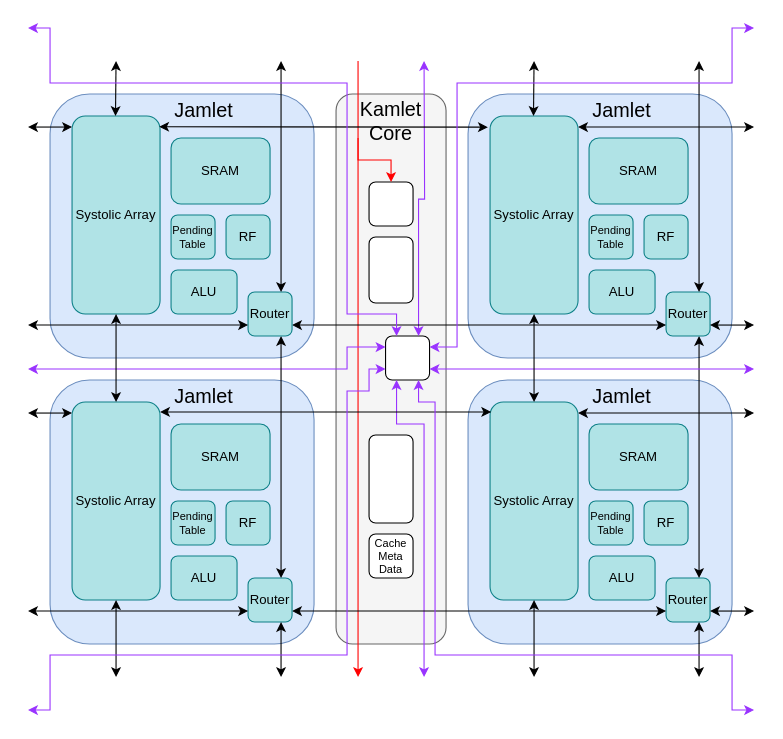
This 783x739 diagram has some shape labels left out. The box of each missing label's shape, as (x1, y1, x2, y2) in pixels:
Instr Buffer: (368, 181, 413, 226)
RS: (368, 236, 413, 303)
Shared Pending Table: (368, 434, 413, 523)
Sync: (384, 335, 430, 380)
